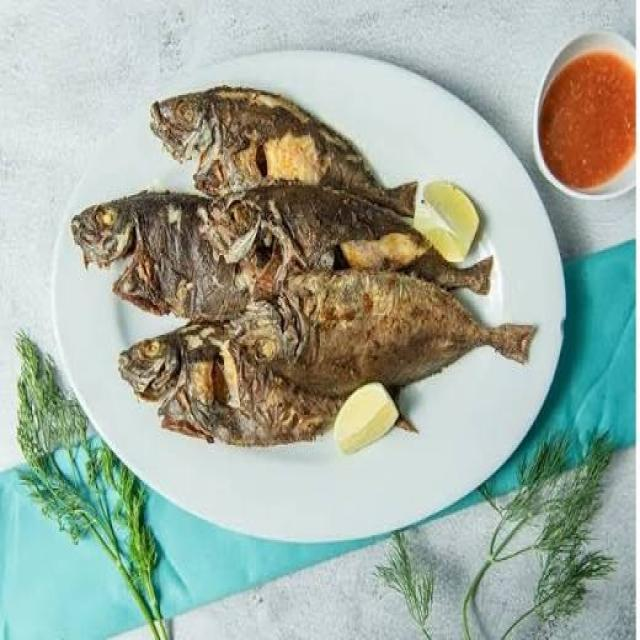Fried Fish: (86, 87, 510, 431)
